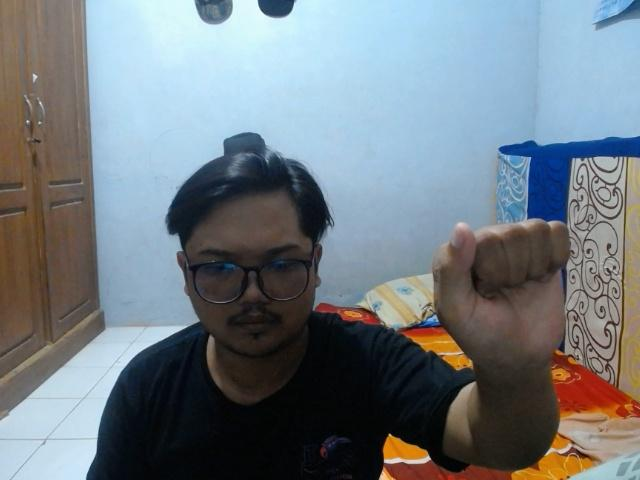Grab: (429, 213, 577, 378)
